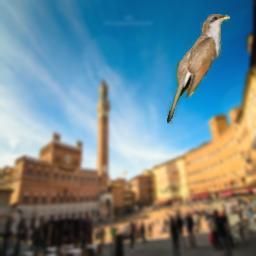Cuckoo: (167, 14, 231, 124)
